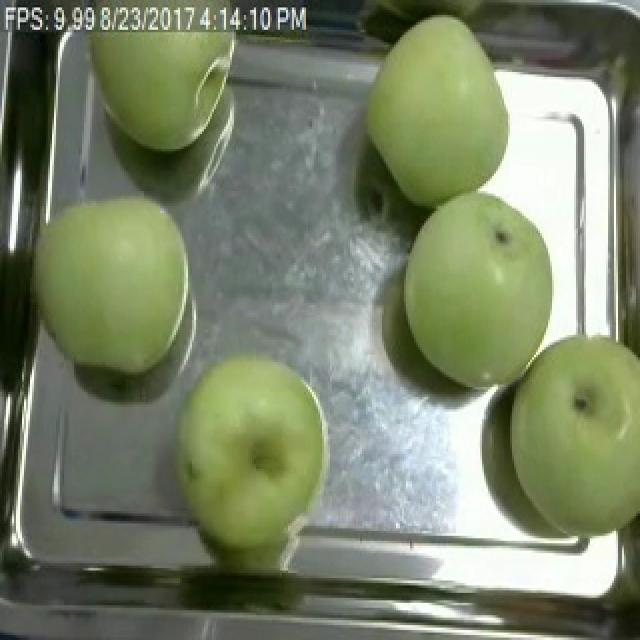50-_ripeness: (30, 207, 214, 374), (410, 188, 559, 386), (502, 331, 640, 544), (181, 364, 322, 556), (368, 18, 516, 197)
